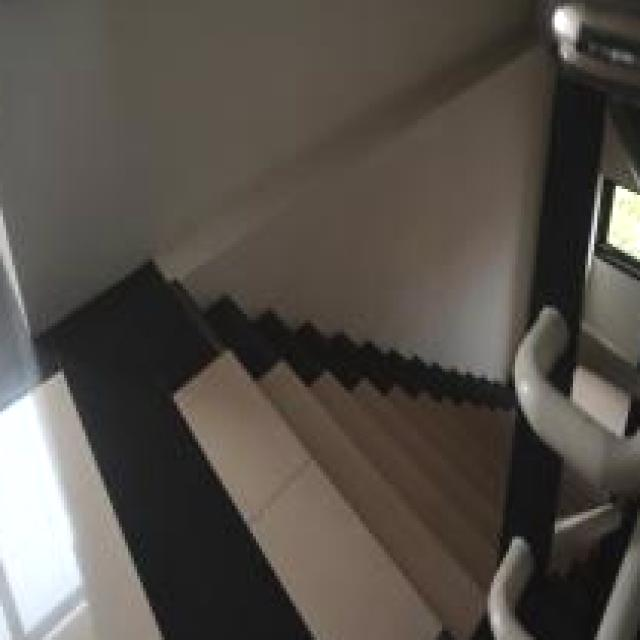downstair: (147, 376, 452, 640)
